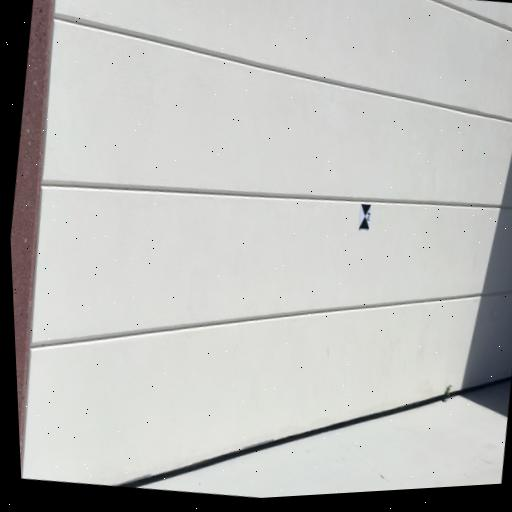target7: (359, 204, 372, 229)
